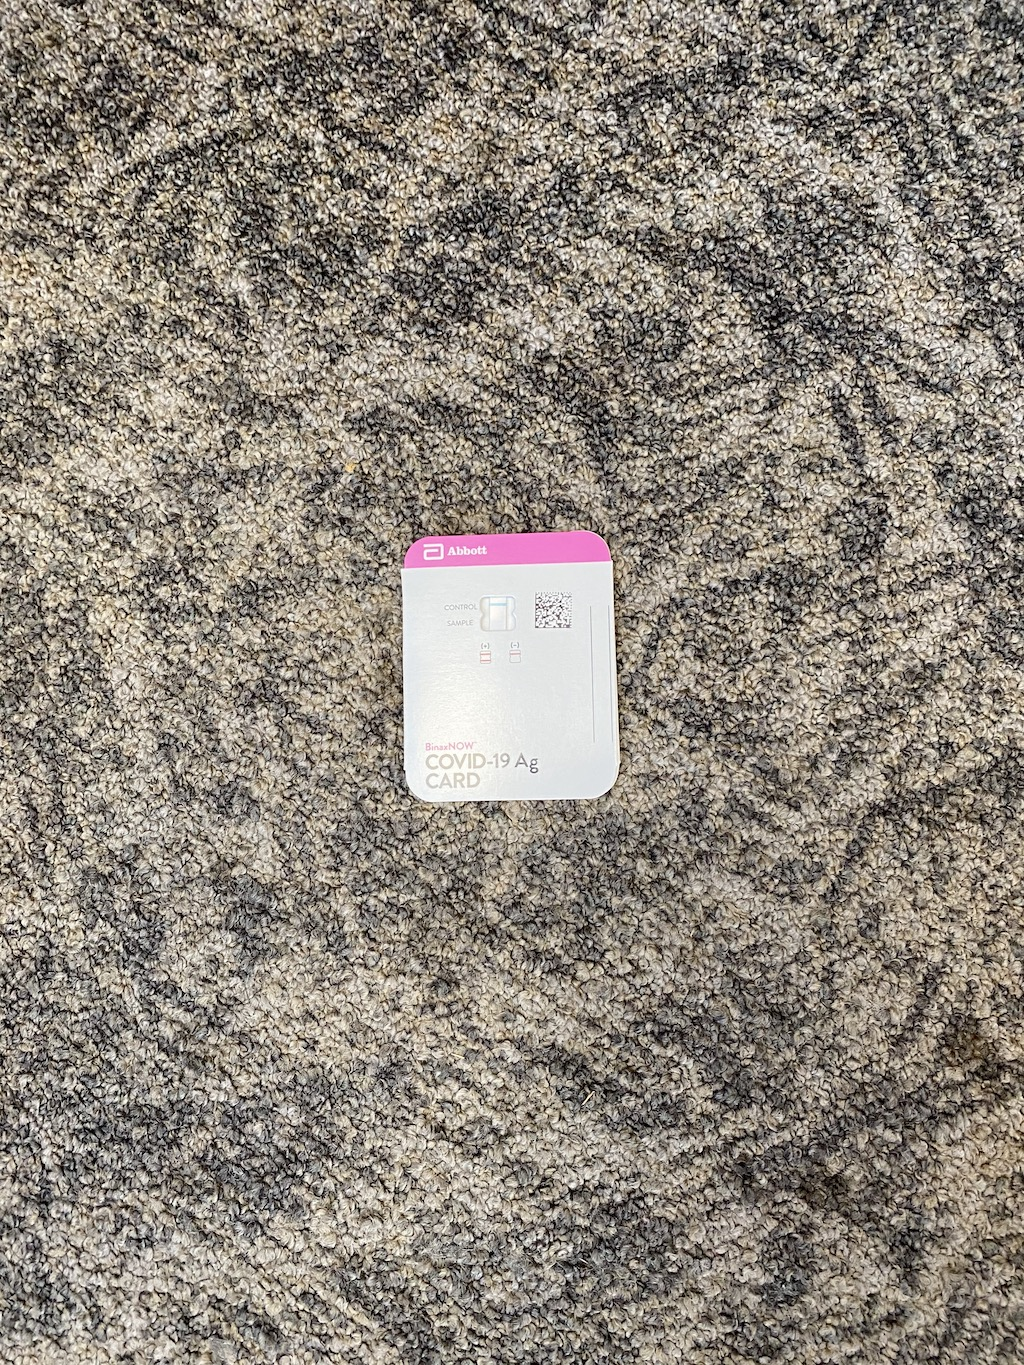binax-negative: (393, 527, 631, 806)
